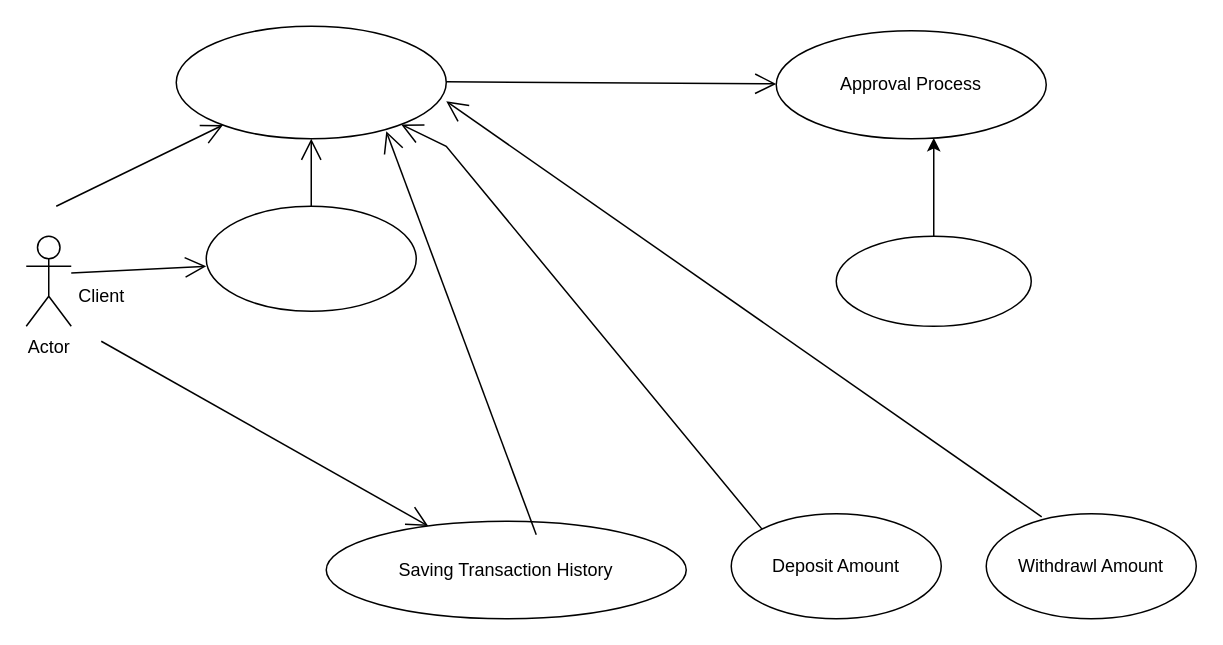
The diagram is 1223 pixels wide and 645 high, and some of its shapes have lost their labels. The box of each missing label's shape, as (x1, y1, x2, y2) in pixels:
Bank ATM Transaction: (175, 25, 446, 139)
CheckingTrans: (205, 205, 416, 311)
Invalid Pin: (835, 235, 1031, 326)
